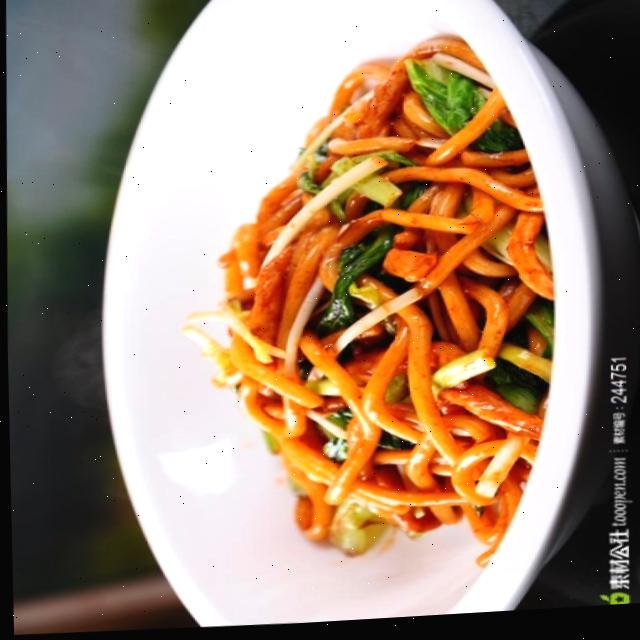面条主食: (48, 0, 626, 638)
